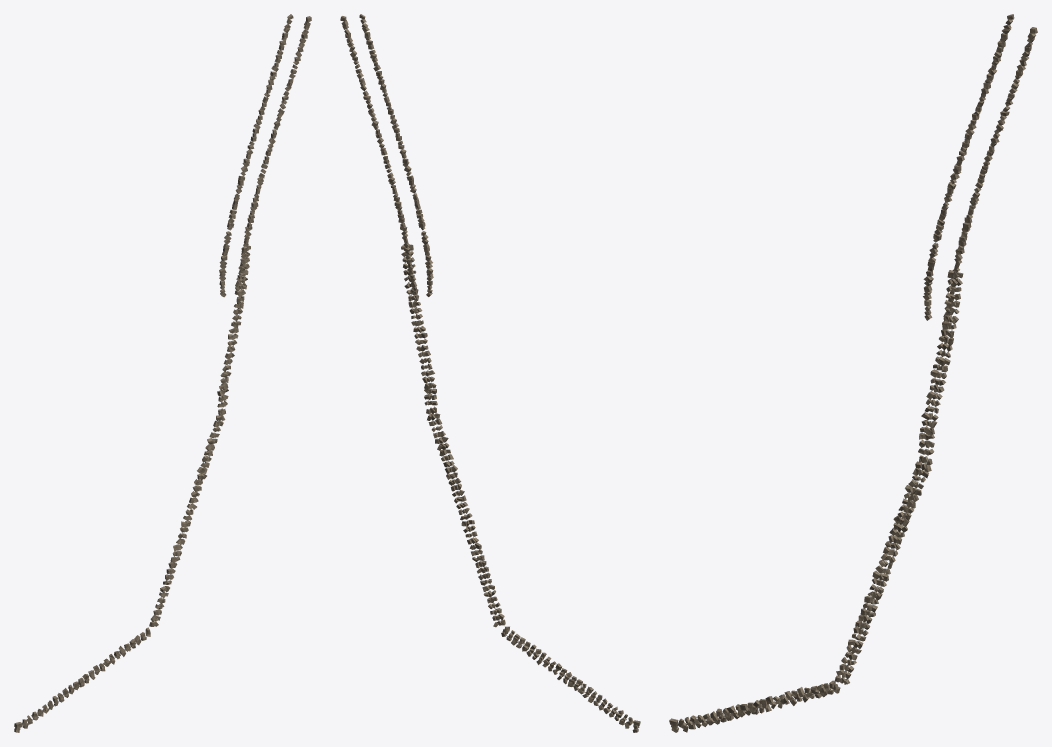
File: gaogongdao_styled_stone.obj
3 views of the same model, side by side, from view 1: azimuth 30°, elevation 25°; view 2: azimuth 150°, elevation 25°; view 3: azimuth 330°, elevation 25° (orthographic). The views are drawn at different scales.
Visible parts, largest first — view 1: harbor; view 2: harbor; view 3: harbor.
Part boxes in pixels (<box>): harbor: <box>14,14,311,732</box>; harbor: <box>340,14,640,732</box>; harbor: <box>669,14,1037,732</box>.
Bounding box in the file's own units: 205 × 429 × 5.23.
Materials: 1 (1 with a texture image).
